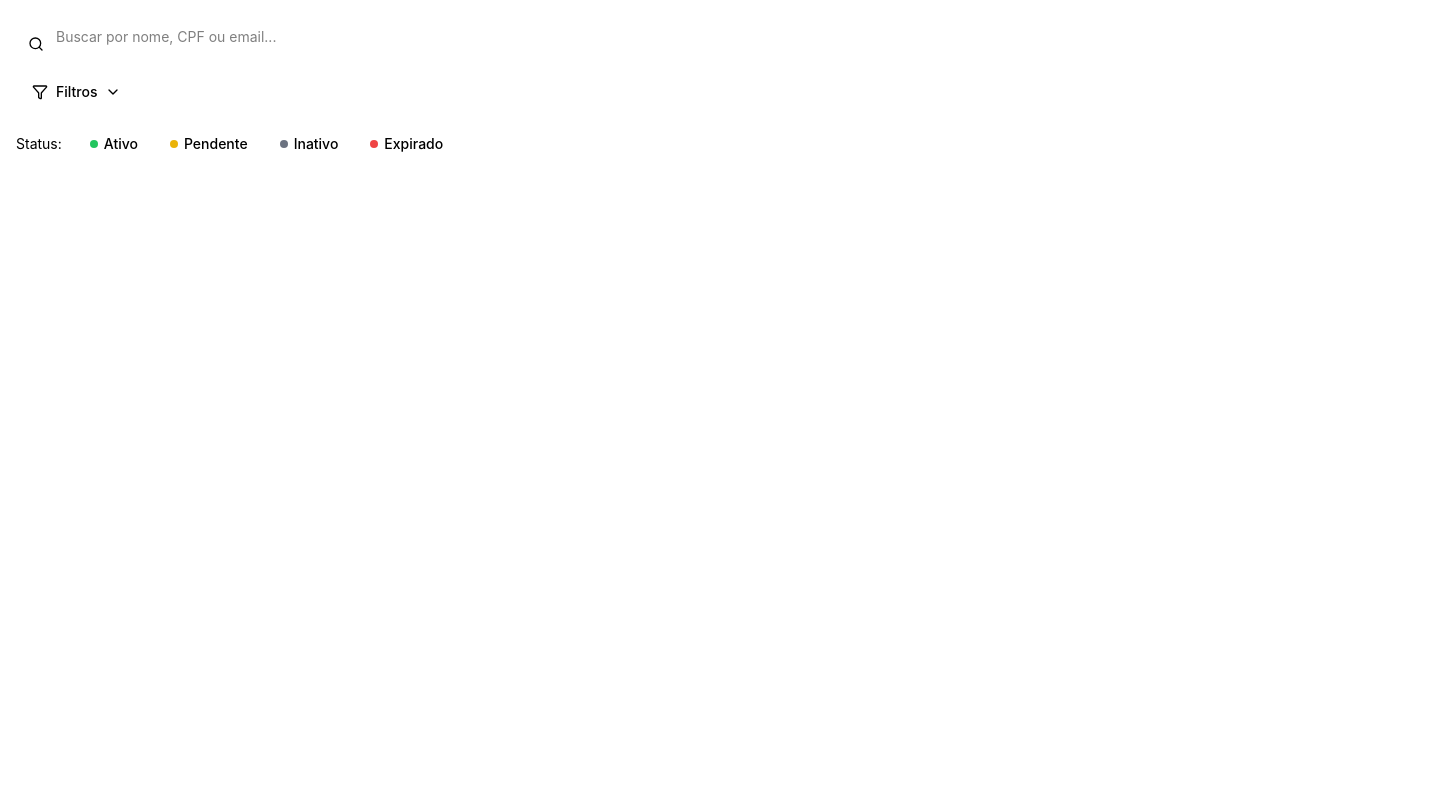
MemberFilters › should show advanced filters when Filtros button clicked
The width and height of the screenshot is (1440, 810).
Click the button "Filtros" at [77, 92], box [16, 72, 137, 112]
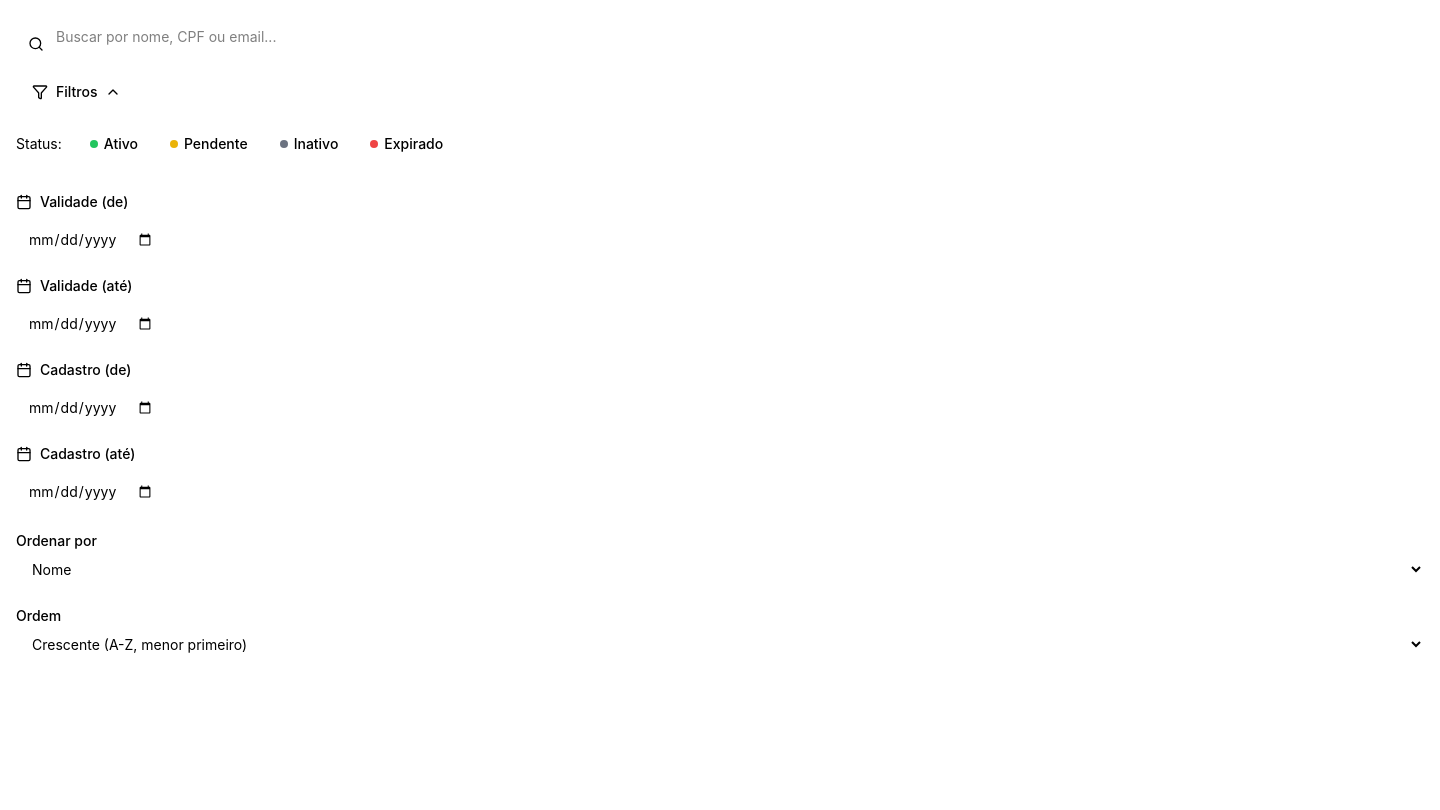
Result: the text "Validade (de)" is shown at [16, 193, 128, 210]
Result: the text "Validade (até)" is shown at [16, 277, 132, 294]
Result: the text "Cadastro (de)" is shown at [16, 361, 131, 378]
